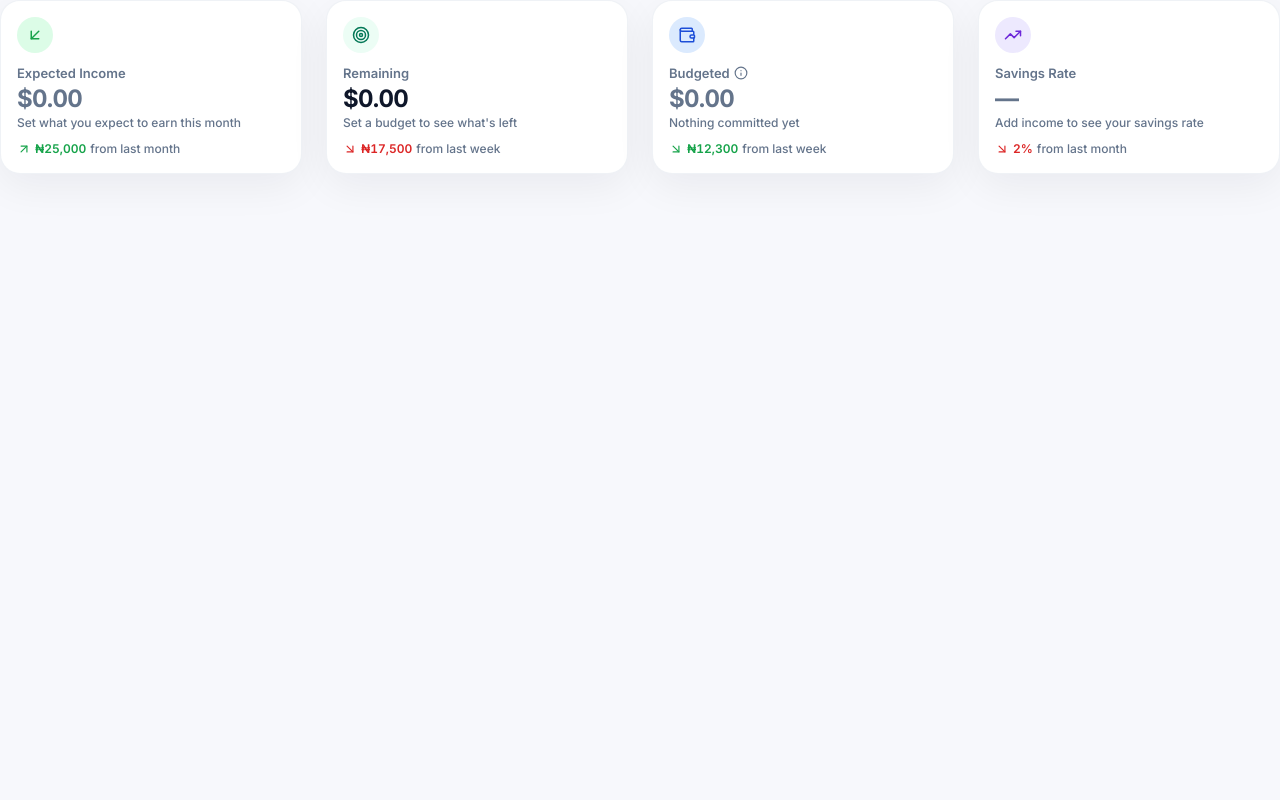
Scenario: SummaryCards expected income › opens the Expected income modal from the income card
This screenshot has width=1280, height=800.
Step 1. Click the button with aria-label "Set expected income" → [35, 35], box [0,0,302,174]
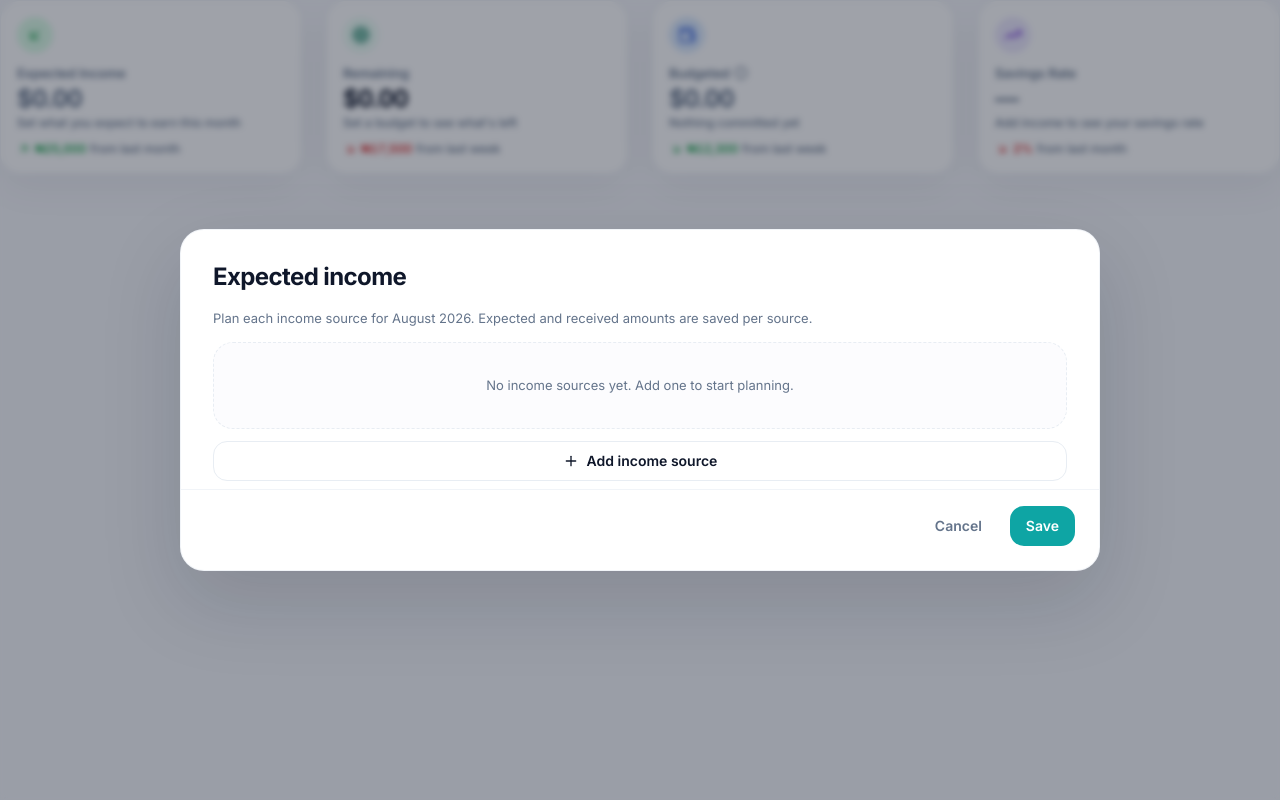
Now the heading "Expected income" is shown, box [213,262,406,291]
